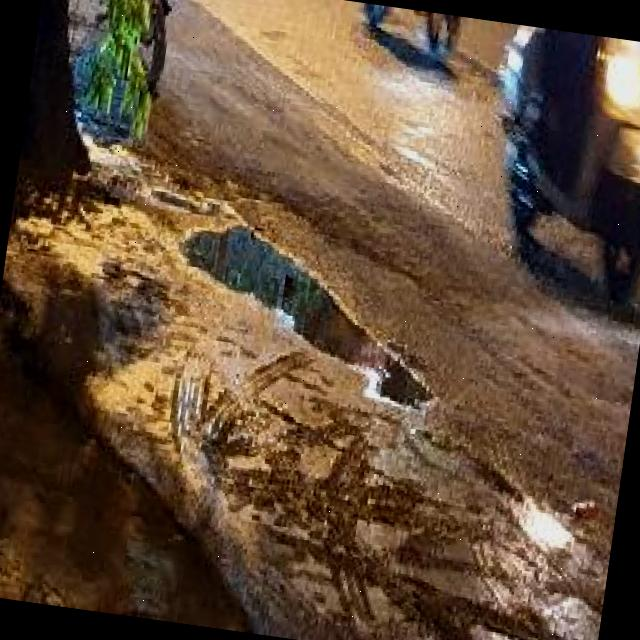waterlogging: (164, 204, 434, 354)
